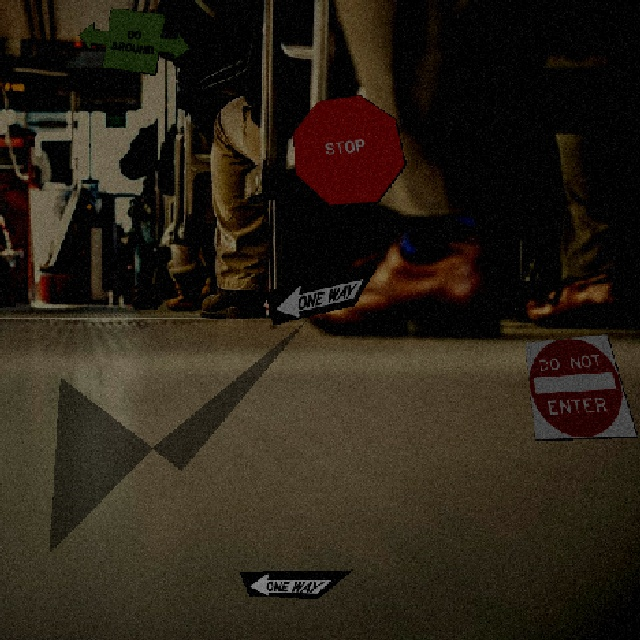DO_NOT_ENTER: (523, 332, 637, 439)
GO_AROUND: (76, 6, 190, 74)
ONE_WAY_ left: (263, 263, 377, 324), (238, 568, 352, 598)
STOP: (291, 93, 405, 205)
